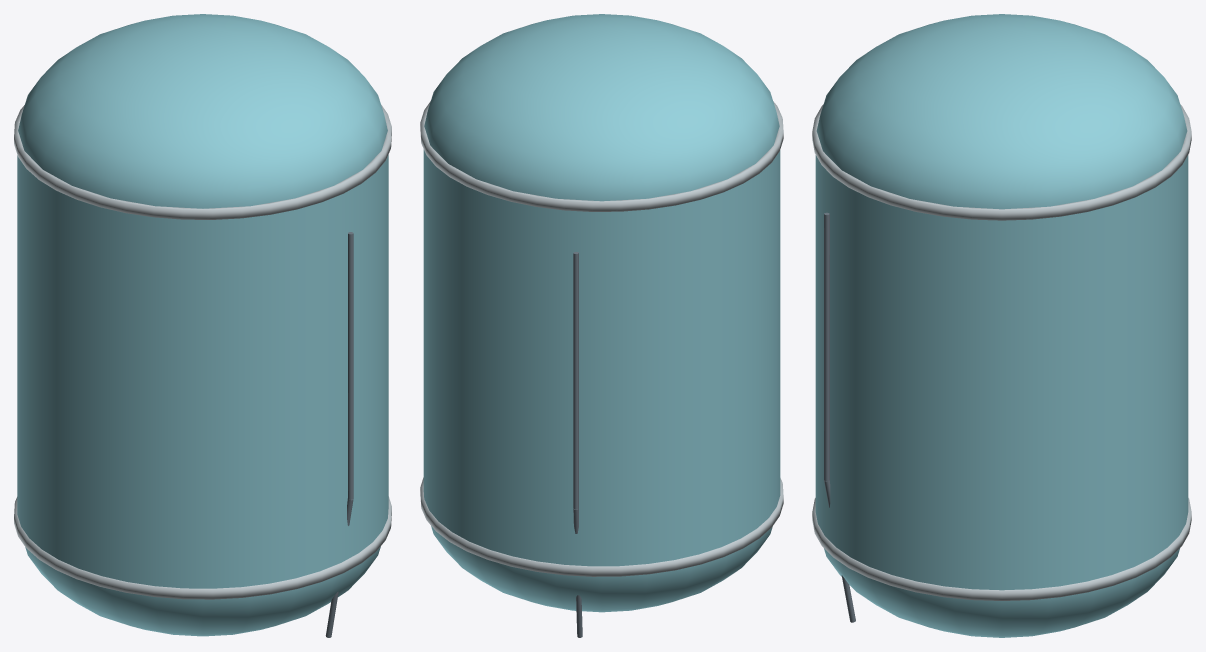
File: atlas_v_centaur_lh2_vessel.glb
3 renders of one model, left to right at view 1: azimuth 30°, elevation 25°; view 2: azimuth 150°, elevation 25°; view 3: azimuth 270°, elevation 25°, orthographic. The views are drawn at different scales.
Visible parts, largest first — view 1: atlas_v_centaur_lh2_vessel.mesh_Cutaway_liquid_hydrogen, atlas_v_centaur_lh2_vessel.mesh_Satin_aluminum, atlas_v_centaur_lh2_vessel.mesh_Machined_steel; view 2: atlas_v_centaur_lh2_vessel.mesh_Cutaway_liquid_hydrogen, atlas_v_centaur_lh2_vessel.mesh_Satin_aluminum, atlas_v_centaur_lh2_vessel.mesh_Machined_steel; view 3: atlas_v_centaur_lh2_vessel.mesh_Cutaway_liquid_hydrogen, atlas_v_centaur_lh2_vessel.mesh_Satin_aluminum, atlas_v_centaur_lh2_vessel.mesh_Machined_steel.
Part boxes in pixels (x1=…): atlas_v_centaur_lh2_vessel.mesh_Cutaway_liquid_hydrogen: x1=17, y1=14, x2=388, y2=636; atlas_v_centaur_lh2_vessel.mesh_Satin_aluminum: x1=14, y1=105, x2=391, y2=599; atlas_v_centaur_lh2_vessel.mesh_Machined_steel: x1=325, y1=232, x2=353, y2=637; atlas_v_centaur_lh2_vessel.mesh_Cutaway_liquid_hydrogen: x1=423, y1=14, x2=780, y2=612; atlas_v_centaur_lh2_vessel.mesh_Satin_aluminum: x1=420, y1=101, x2=783, y2=576; atlas_v_centaur_lh2_vessel.mesh_Machined_steel: x1=573, y1=252, x2=582, y2=637; atlas_v_centaur_lh2_vessel.mesh_Cutaway_liquid_hydrogen: x1=815, y1=14, x2=1188, y2=637; atlas_v_centaur_lh2_vessel.mesh_Satin_aluminum: x1=812, y1=104, x2=1191, y2=600; atlas_v_centaur_lh2_vessel.mesh_Machined_steel: x1=824, y1=212, x2=855, y2=622.
Bounding box in the file's own units: 2.89 × 4.76 × 2.89.
